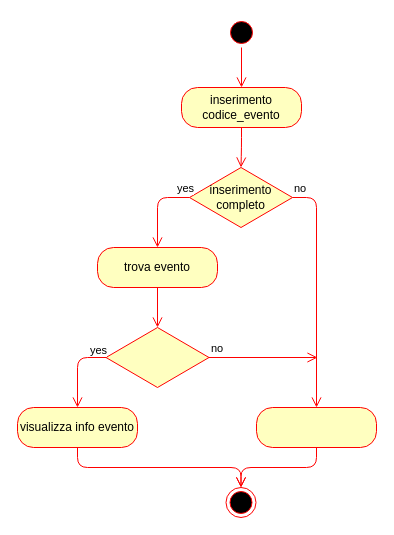
Some shapes in this 394 by 535 pixel diagram are drawn without their labels. The centre of each missing label's shape, as x and y in pixels:
"codice_evento trovato" goes at pixel 157 357.
"errore" goes at pixel 316 427.
